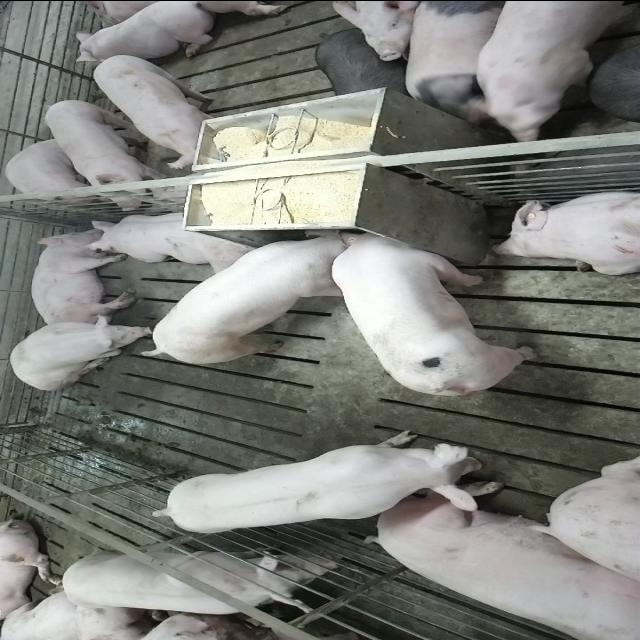Feeding: (331, 221, 541, 391), (138, 221, 360, 359)
Lateral_lying: (29, 227, 138, 326)
Sitting: (7, 312, 156, 390)
Standing: (151, 432, 501, 536), (58, 536, 373, 635), (463, 2, 640, 142), (90, 51, 234, 168), (45, 99, 172, 209), (399, 2, 507, 124), (316, 28, 418, 98), (588, 28, 640, 120)
Sternal_lying: (490, 186, 640, 273), (86, 208, 260, 268), (73, 1, 223, 59)
